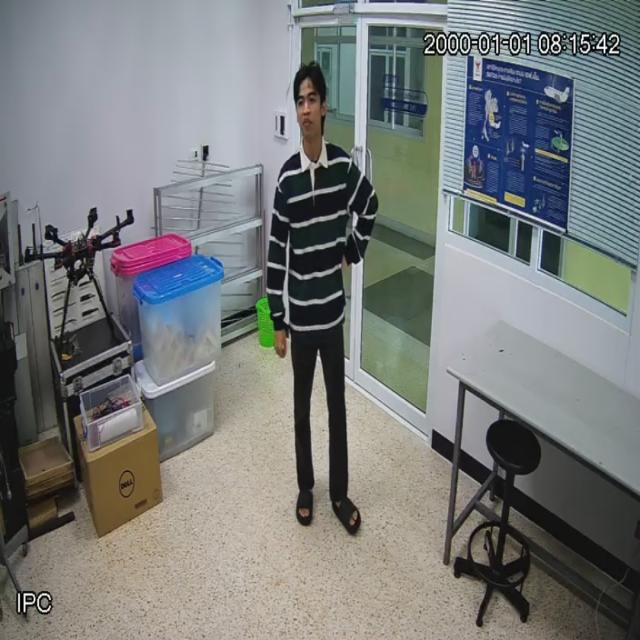normal: (267, 62, 380, 530)
